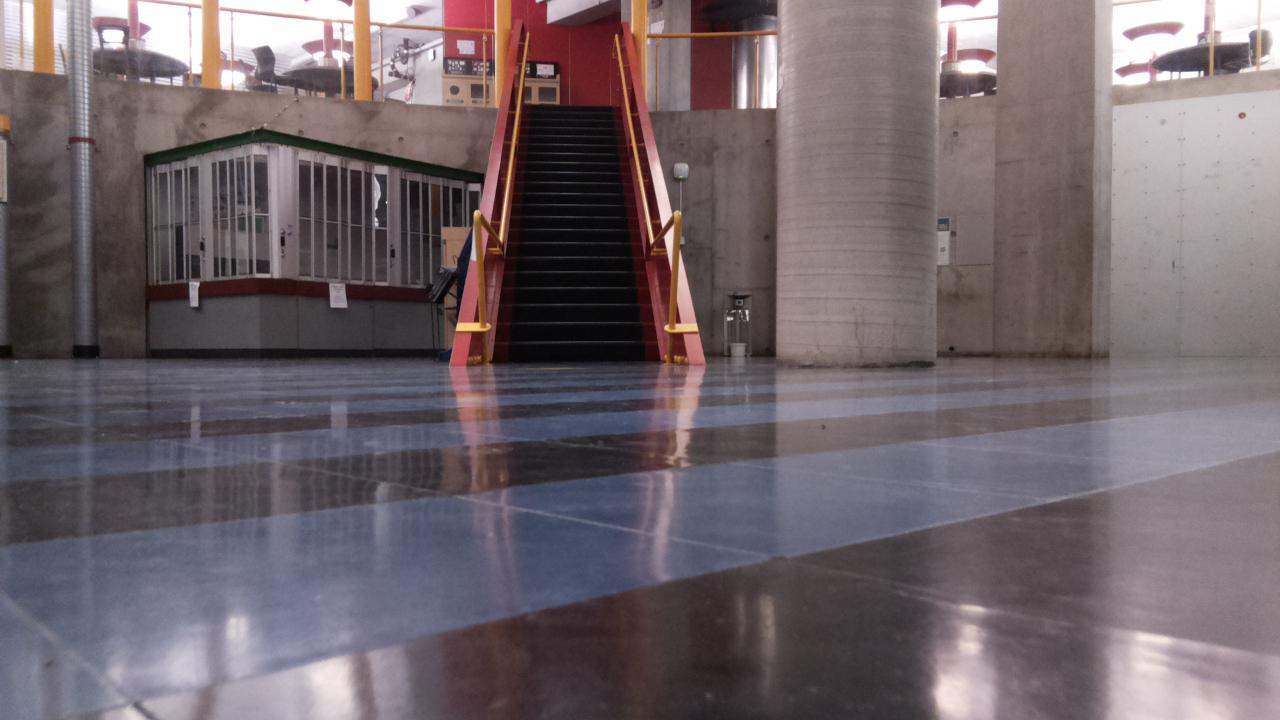sign: (447, 60, 553, 77)
stair: (486, 104, 662, 363)
